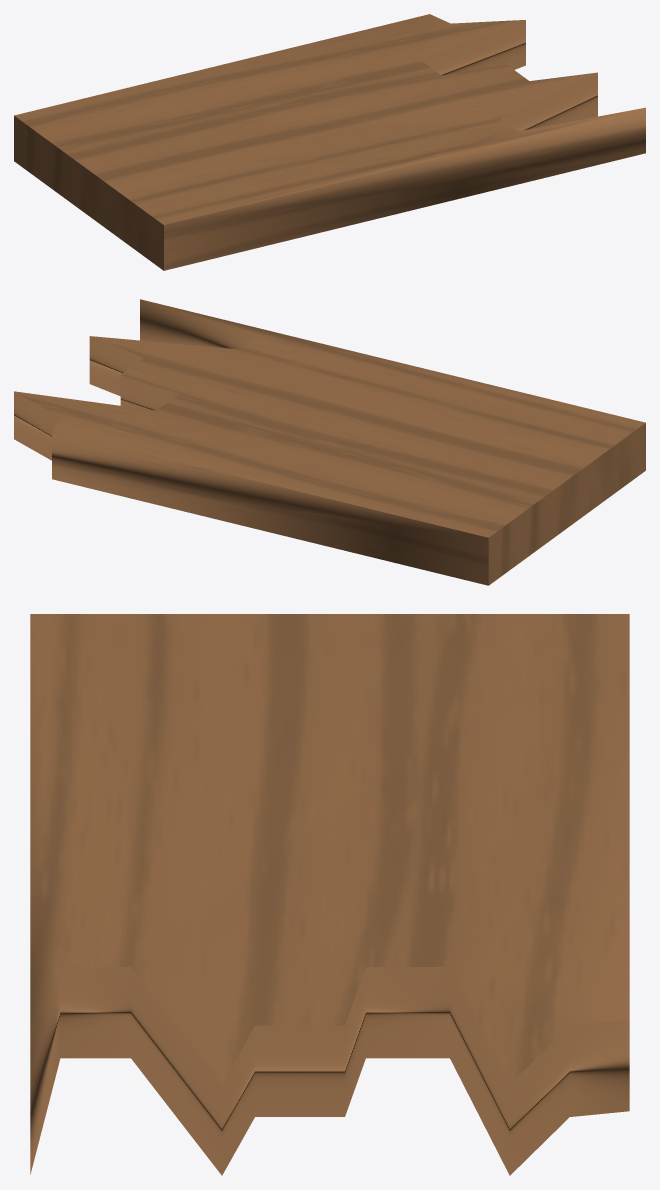
File: Wood Plank 1.fbx
3 renders of one model, top to bottom at view 1: azimuth 30°, elevation 25°; view 2: azimuth 150°, elevation 25°; view 3: azimuth 270°, elevation 25°, orthographic. The views are drawn at different scales.
Parts seen in each view (by area): view 1: Wood_Plank_part_1; view 2: Wood_Plank_part_1; view 3: Wood_Plank_part_1.
Boxes of the visible parts, x1,y1,x2,y2 form: Wood_Plank_part_1: [14, 14, 645, 270]; Wood_Plank_part_1: [14, 299, 645, 585]; Wood_Plank_part_1: [30, 614, 629, 1175].
Size of the model in its own units: 2.59 by 0.2348 by 1.4.
